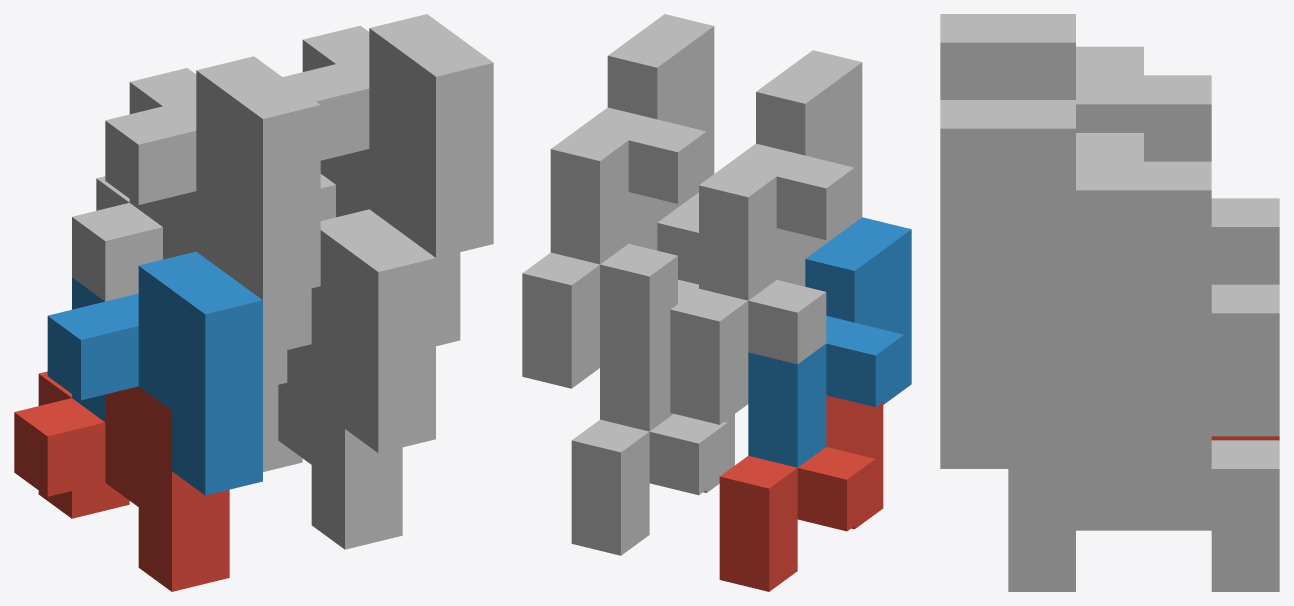
The model's file is tiling.obj.
The picture shows the model from 3 angles, left to right: view 1: azimuth 30°, elevation 25°; view 2: azimuth 150°, elevation 25°; view 3: azimuth 270°, elevation 25°; orthographic projection. The views are drawn at different scales.
Visible parts, largest first — view 1: copy_1_domain_4, copy_1_domain_2, copy_1_domain_8, copy_1_domain_1, copy_1_domain_6, copy_1_domain_5, copy_1_domain_3, copy_1_domain_7; view 2: copy_1_domain_8, copy_1_domain_4, copy_1_domain_2, copy_1_domain_1, copy_1_domain_3, copy_1_domain_7, copy_1_domain_5, copy_1_domain_6; view 3: copy_1_domain_8, copy_1_domain_7, copy_1_domain_5, copy_1_domain_4, copy_1_domain_6, copy_1_domain_3.
Part boxes in pixels (x1=…): copy_1_domain_4: x1=105, y1=56, x2=320, y2=300; copy_1_domain_2: x1=47, y1=251, x2=262, y2=495; copy_1_domain_8: x1=283, y1=14, x2=493, y2=257; copy_1_domain_1: x1=14, y1=371, x2=229, y2=591; copy_1_domain_6: x1=287, y1=209, x2=435, y2=453; copy_1_domain_5: x1=263, y1=344, x2=402, y2=549; copy_1_domain_3: x1=72, y1=176, x2=287, y2=388; copy_1_domain_7: x1=320, y1=149, x2=460, y2=346; copy_1_domain_8: x1=550, y1=14, x2=714, y2=264; copy_1_domain_4: x1=699, y1=50, x2=862, y2=300; copy_1_domain_2: x1=748, y1=217, x2=911, y2=467; copy_1_domain_1: x1=719, y1=395, x2=883, y2=591; copy_1_domain_3: x1=670, y1=228, x2=833, y2=424; copy_1_domain_7: x1=522, y1=192, x2=685, y2=388; copy_1_domain_5: x1=571, y1=414, x2=734, y2=555; copy_1_domain_6: x1=600, y1=192, x2=698, y2=431; copy_1_domain_8: x1=940, y1=100, x2=1211, y2=313; copy_1_domain_7: x1=1008, y1=251, x2=1279, y2=436; copy_1_domain_5: x1=1008, y1=407, x2=1279, y2=591; copy_1_domain_4: x1=940, y1=14, x2=1211, y2=161; copy_1_domain_6: x1=940, y1=313, x2=1211, y2=468; copy_1_domain_3: x1=1211, y1=198, x2=1279, y2=284.
Bounding box in the file's own units: 6 × 8 × 5.
